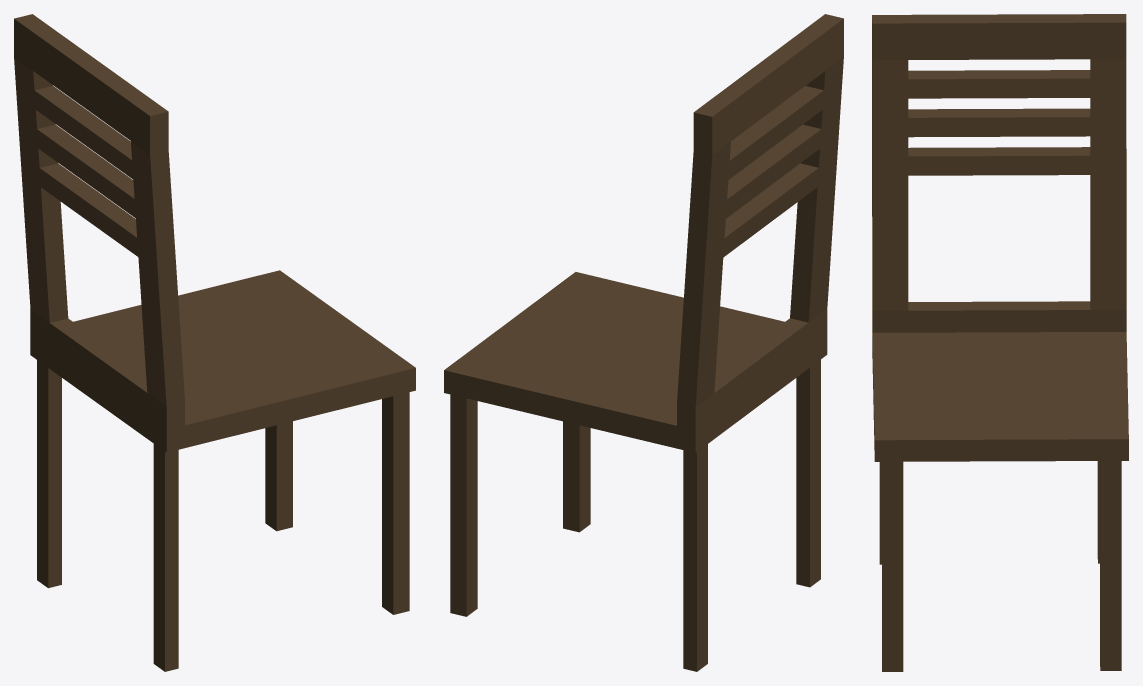
File: chair4.fbx
3 views of the same model, side by side, from view 1: azimuth 30°, elevation 25°; view 2: azimuth 150°, elevation 25°; view 3: azimuth 270°, elevation 25° (orthographic). The views are drawn at different scales.
Visible parts, largest first — view 1: chair4; view 2: chair4; view 3: chair4.
Part boxes in pixels (x1,y1,x2,y2): chair4: (14,14,415,671); chair4: (444,14,843,671); chair4: (872,14,1128,671).
Bounding box in the file's own units: 69.77 × 139 × 60.73.
